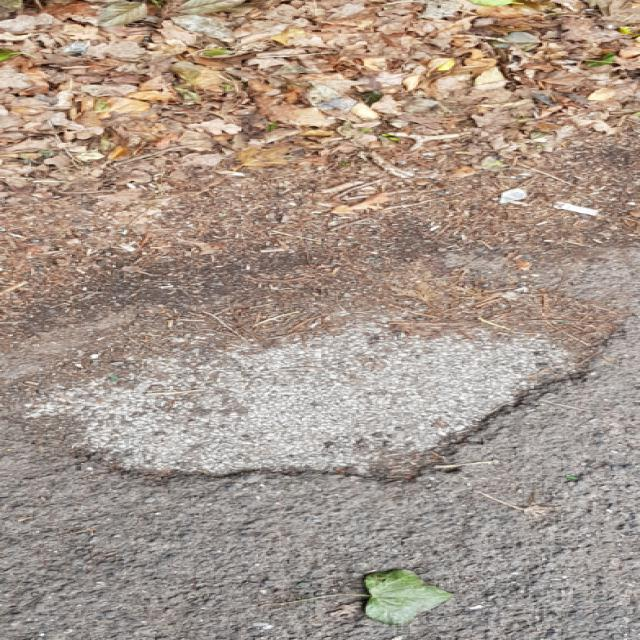Pothole: (15, 274, 631, 492)
